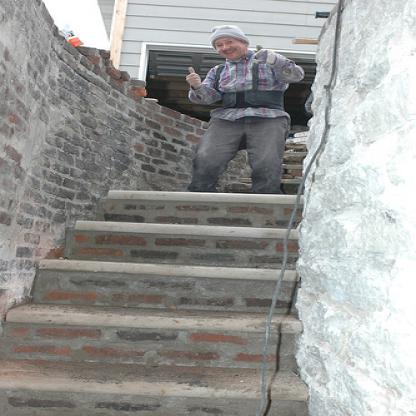stairs: (73, 221, 276, 416)
